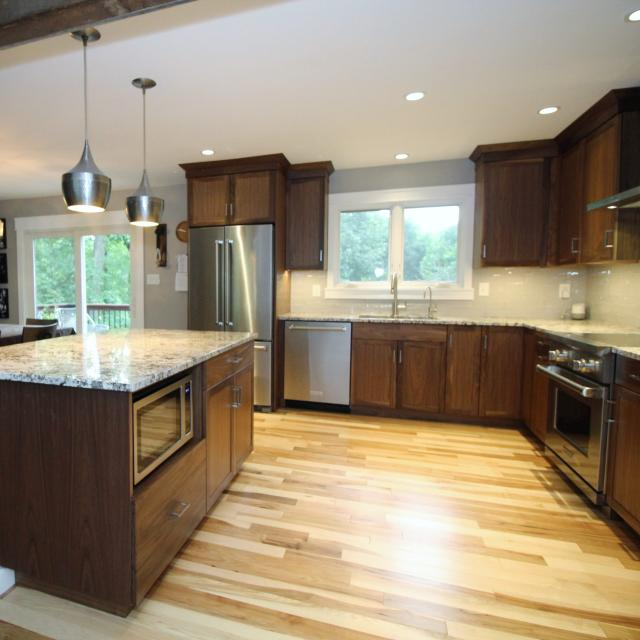Appliance_Dishwasher: (279, 321, 353, 408)
Appliance_Fridge: (187, 223, 276, 407)
Appliance_Microwave: (131, 380, 196, 482)
Appliance_Oven: (536, 332, 640, 505)
Appliance_Sink: (359, 274, 431, 320)
Cabinet_Flat: (134, 439, 206, 606), (614, 353, 640, 395)
Cabinet_Shaker: (470, 93, 640, 267), (349, 323, 546, 429), (180, 154, 334, 270), (203, 342, 254, 513), (608, 386, 640, 537)
Countertop_Granite: (0, 330, 256, 392), (279, 315, 640, 334)
